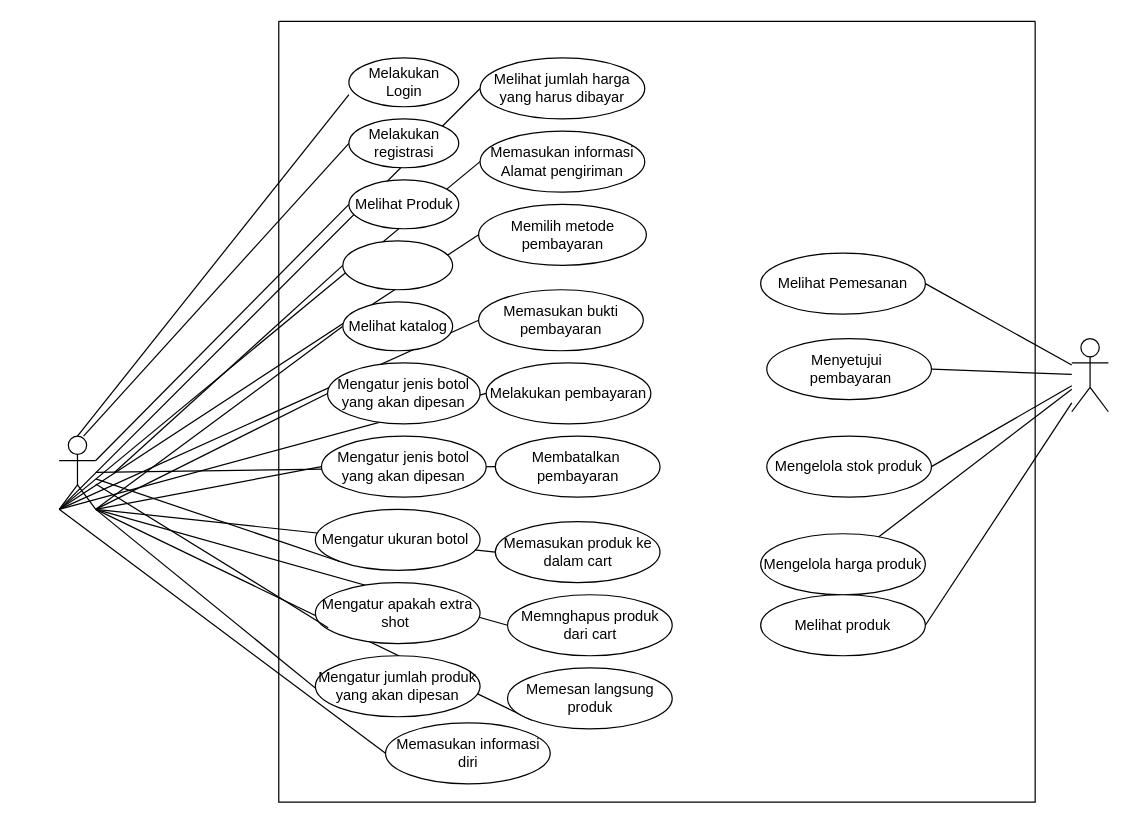
The diagram is 1132 pixels wide and 824 high, and some of its shapes have lost their labels. The shapes that lost their labels are listed below. From the top down, each one's box as (x1, y1, x2, y2) in pixels, then its label:
(342, 240, 453, 290): Melihat testimoni
(1071, 337, 1108, 412): Admin
(58, 435, 96, 509): Calon Customer
